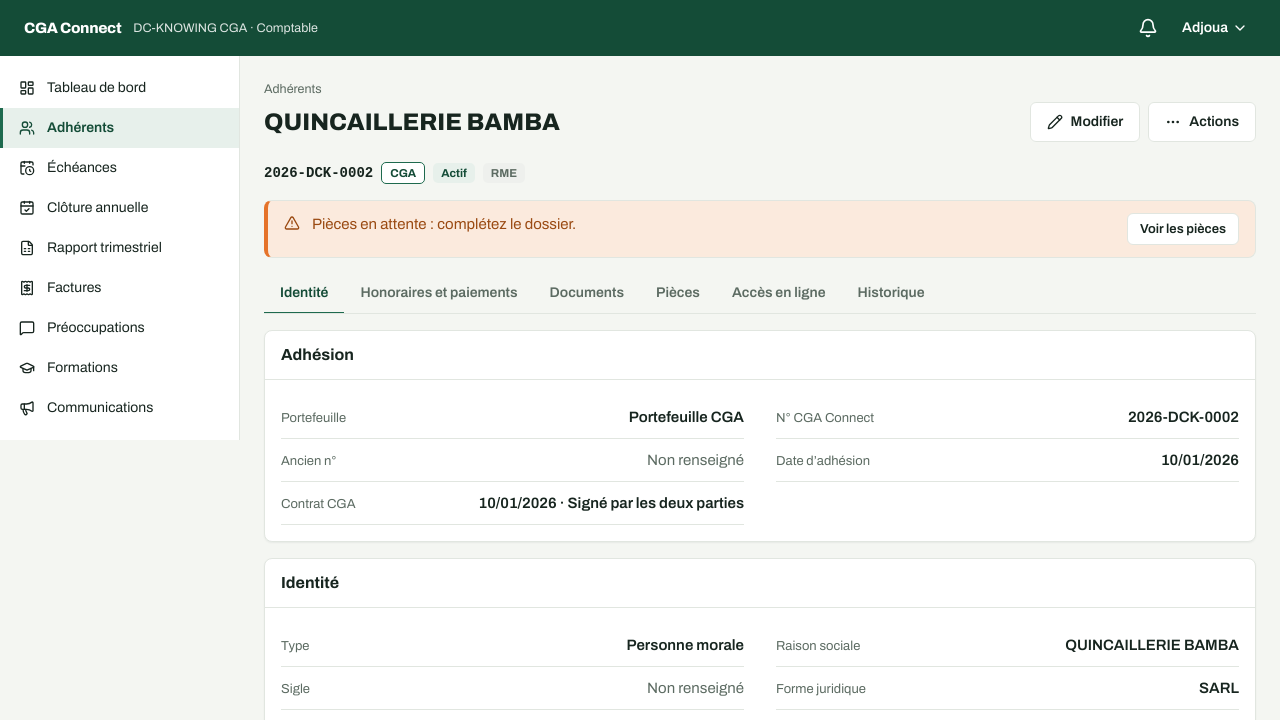
Test case: /cga/adherents/:id · pièces, accès en ligne, historique › le comptable consulte les accès sans pouvoir inviter
Expected: the heading "QUINCAILLERIE BAMBA" is shown, top-left (264, 106), bottom-right (560, 138)
Click the tab "Accès en ligne": coordinates (779, 294) top-left (716, 274), bottom-right (842, 314)
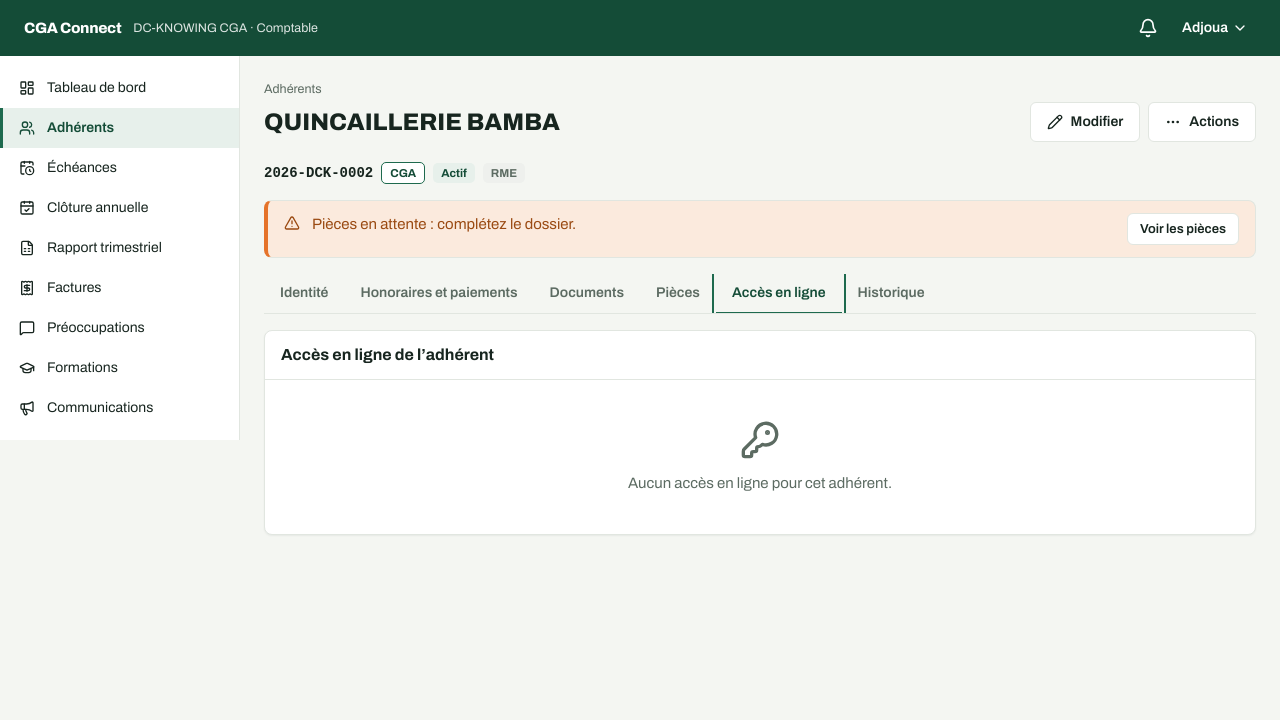
Now the text "Aucun accès en ligne pour cet adhérent." is shown, box top-left (628, 472), bottom-right (892, 494)
